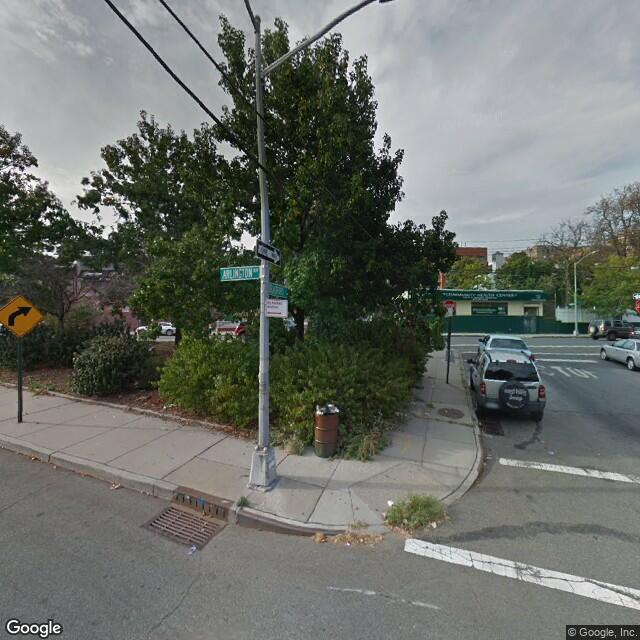litter: (314, 506, 501, 549)
